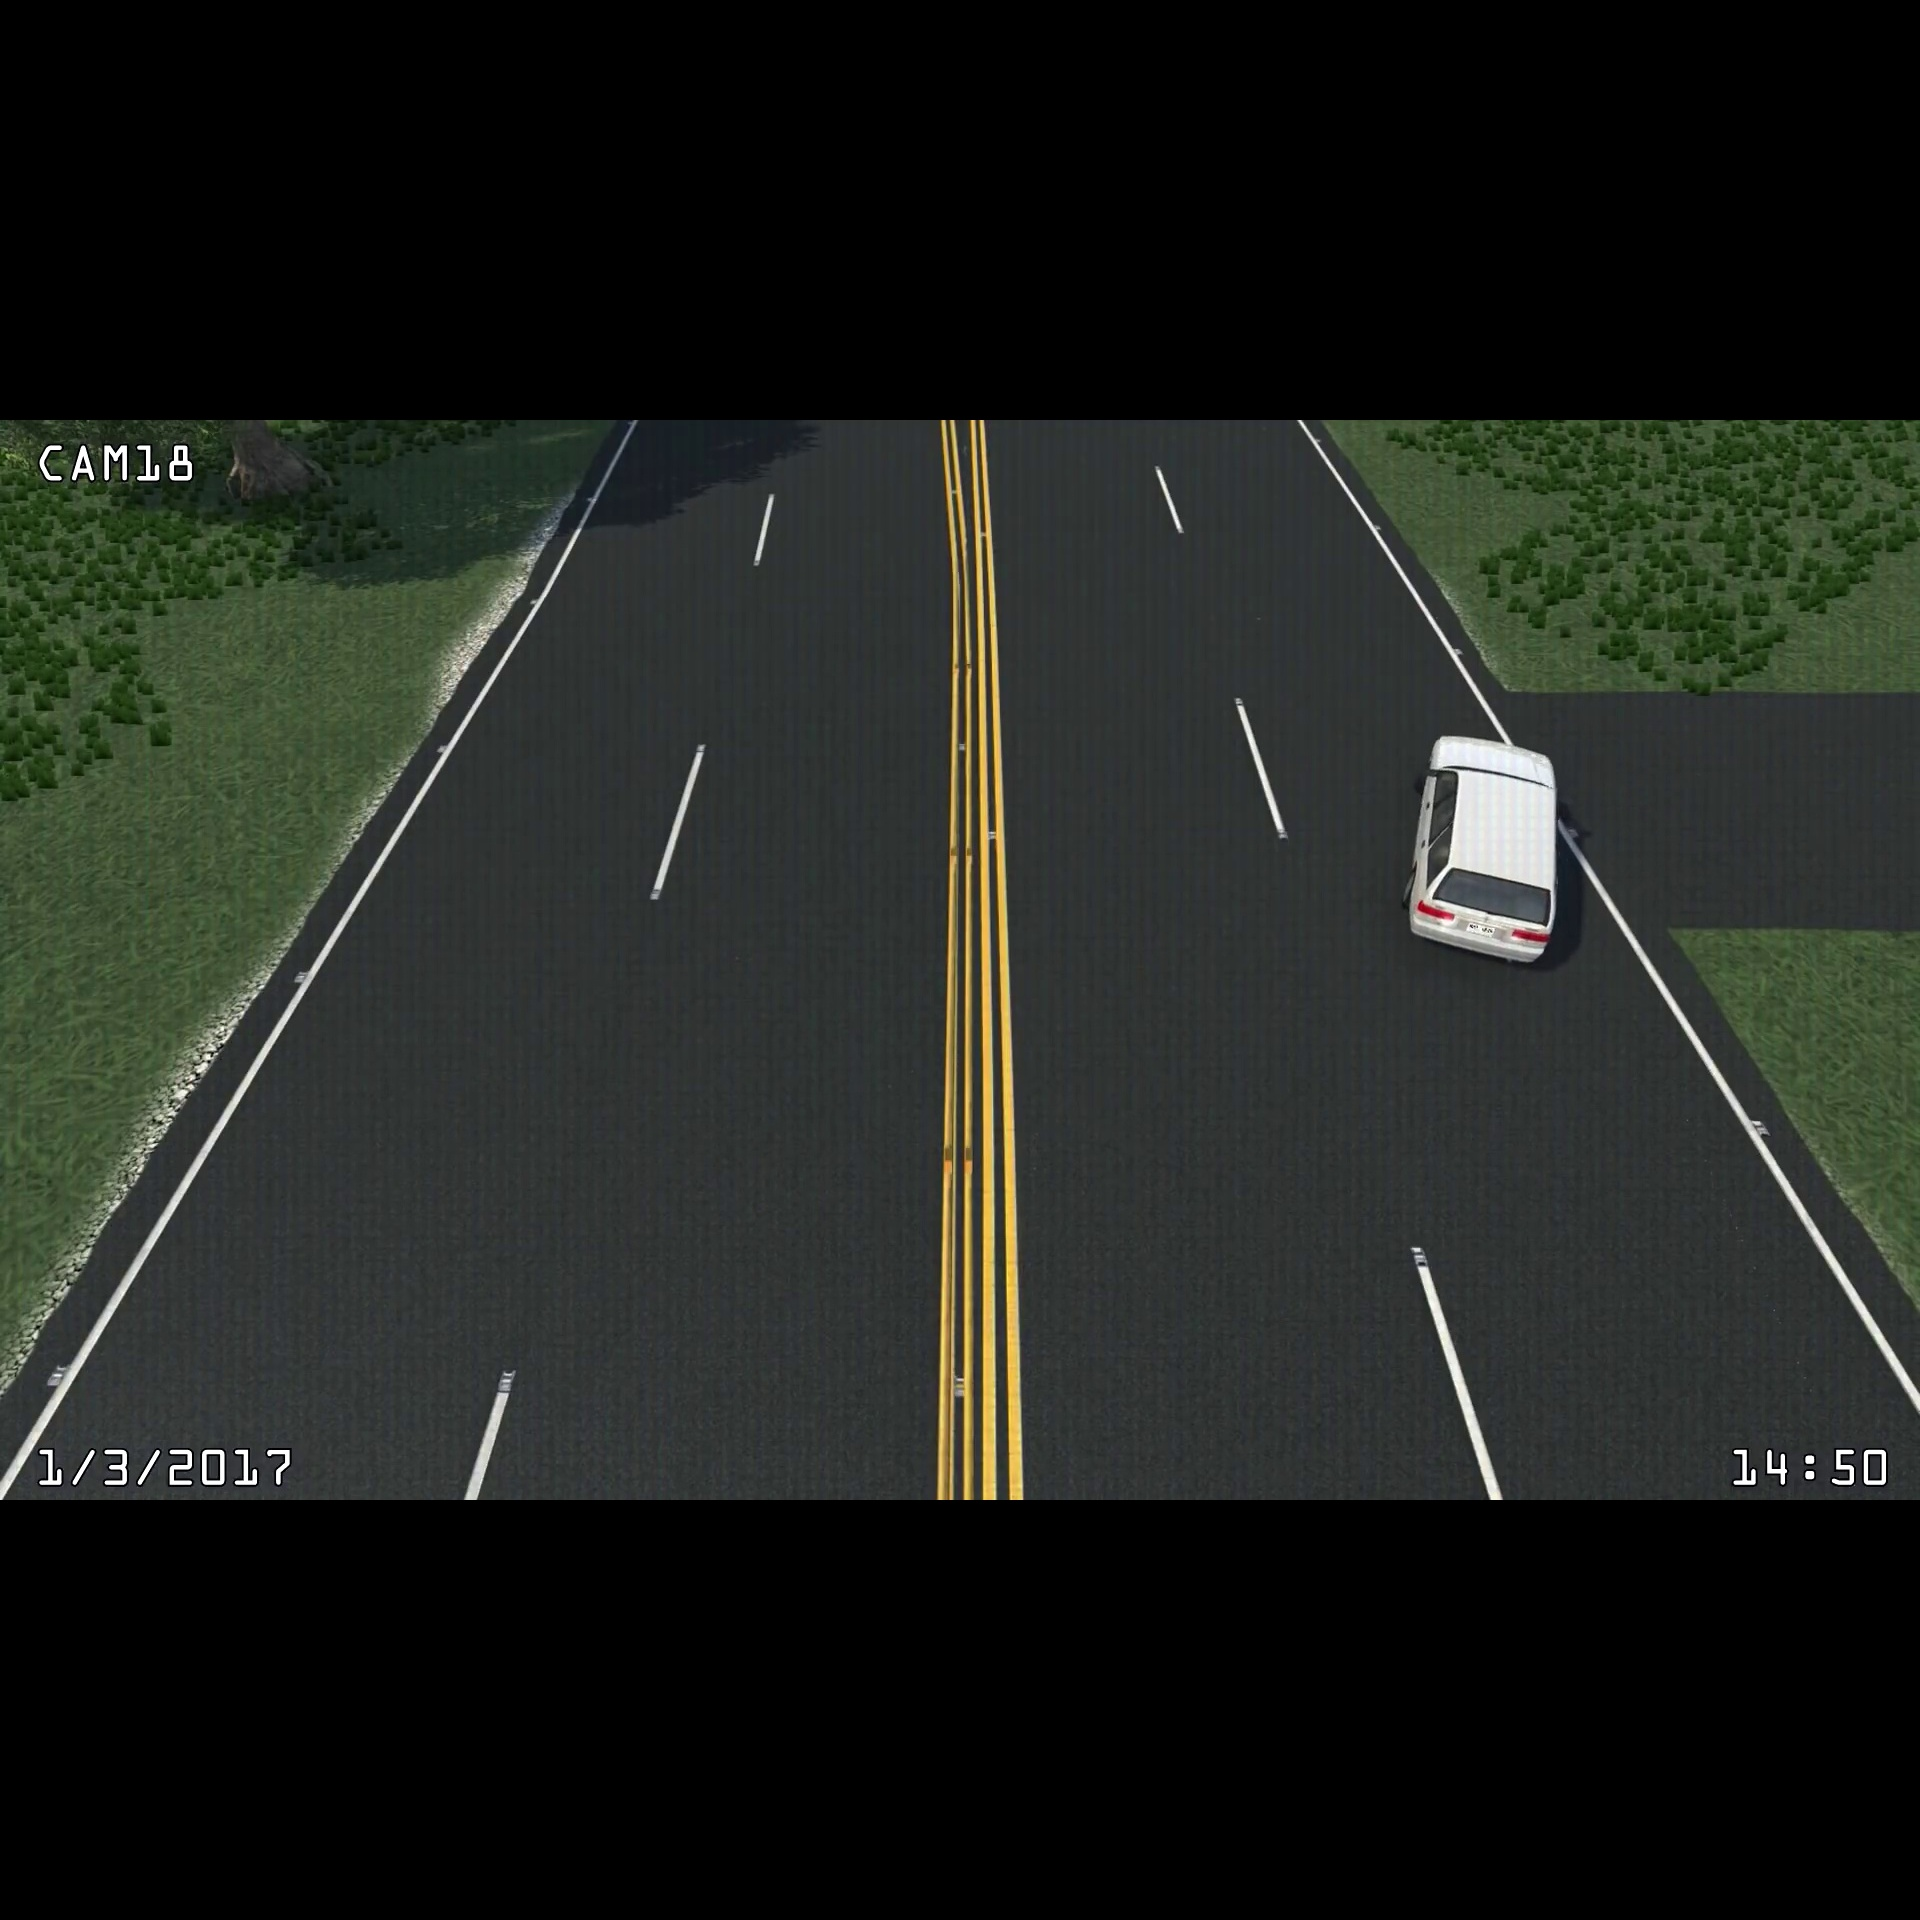vehicle: (1382, 719, 1577, 978)
